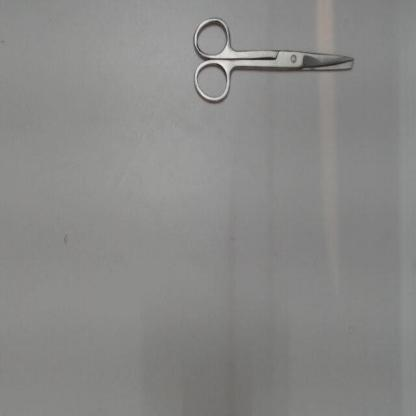Dressing Scissors: (182, 8, 360, 117)
